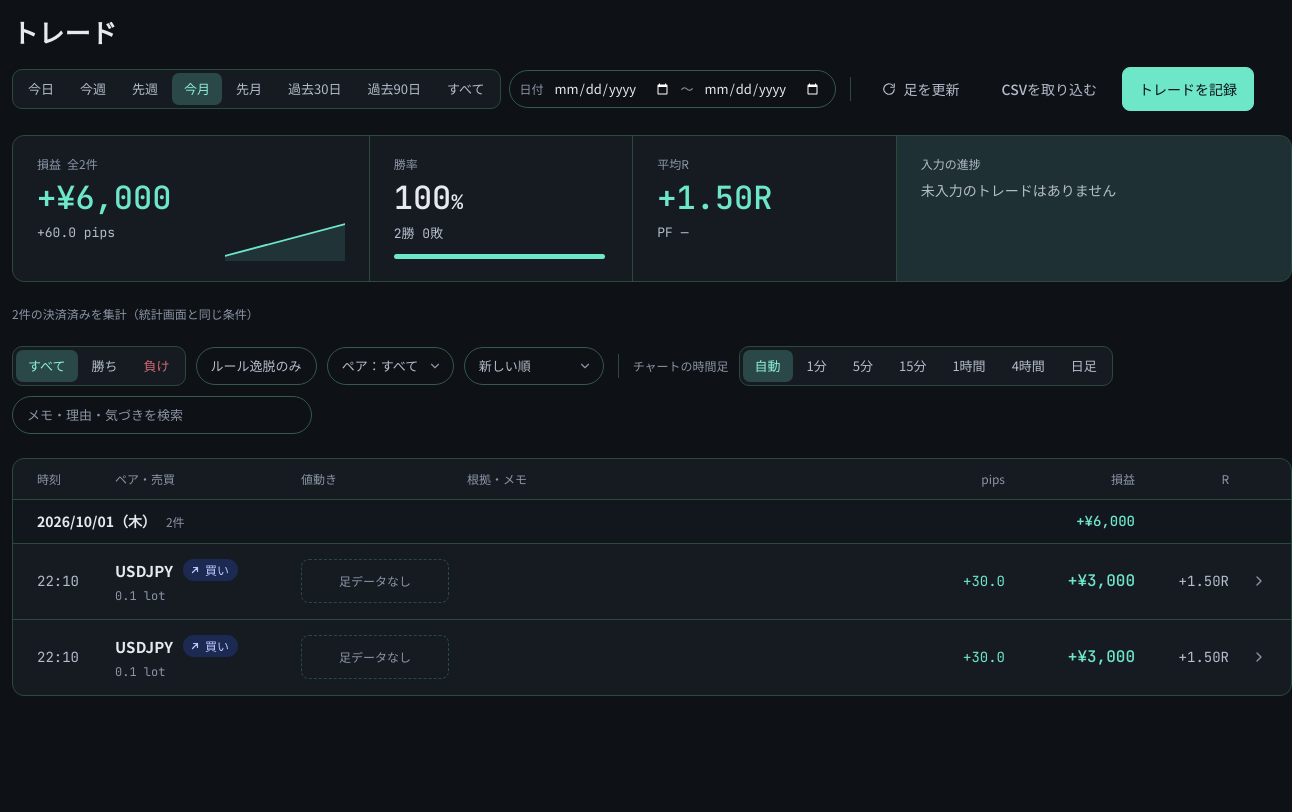
it: トレード一覧 › チャートの時間足を切り替えると、一覧の全チャートがその足で取得される
expect the table is shown: met, box [12,458,1291,696]
Click the button "15分" at coordinates (913, 366), box [887,350,938,382]
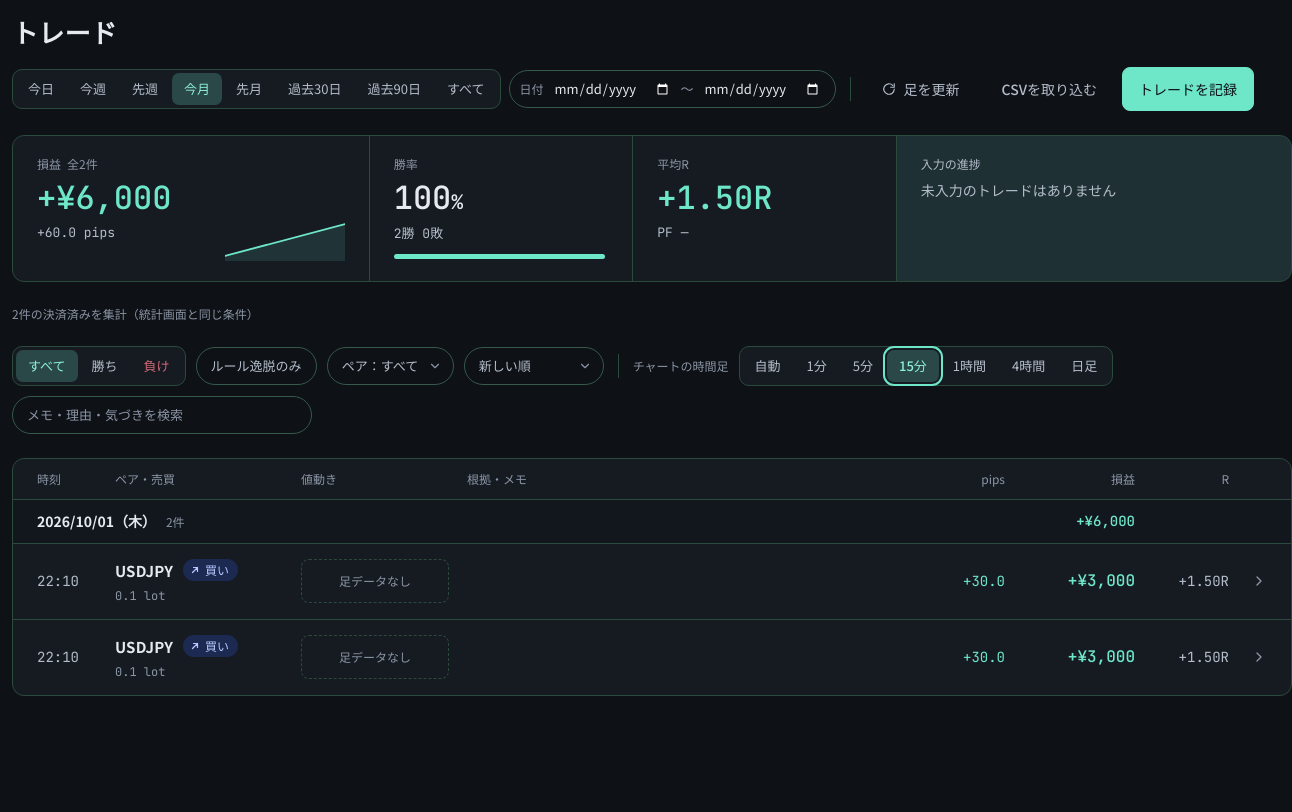
expect the button "15分" is pressed: met, box [887,350,939,382]
